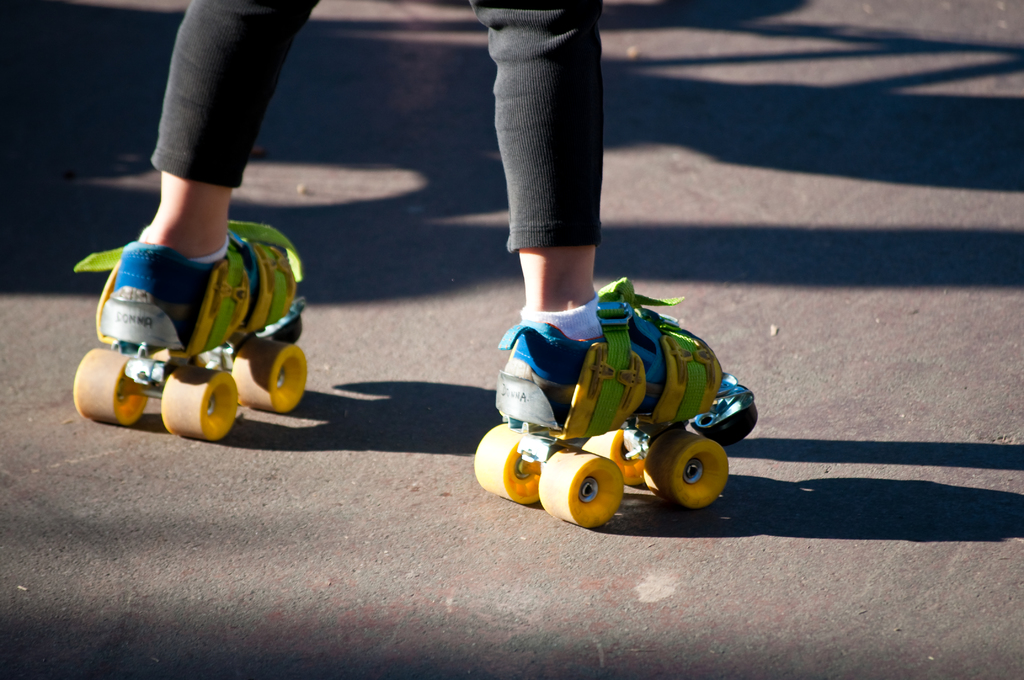Person: (74, 1, 758, 526)
